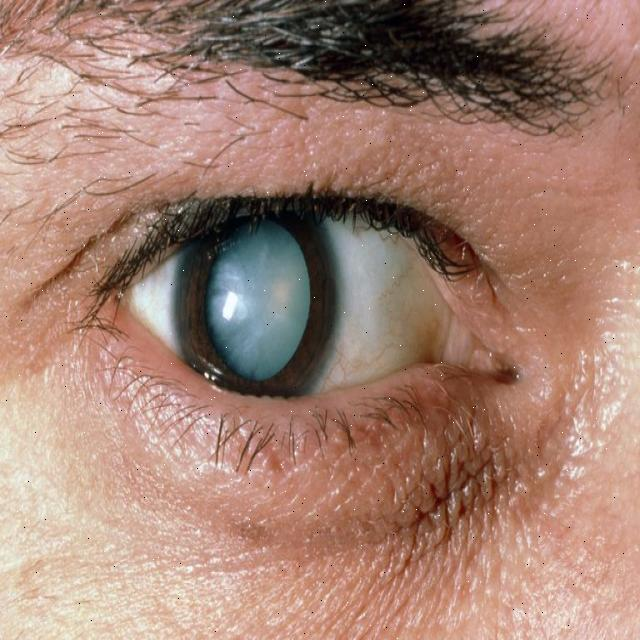Cataract: (176, 172, 340, 420)
